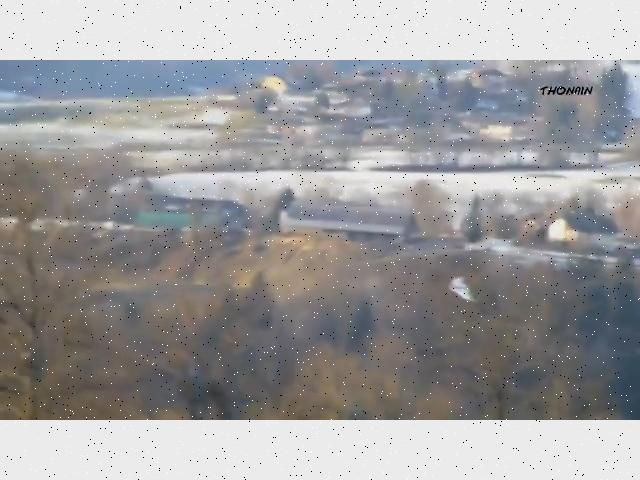Anti-Drone: (450, 276, 476, 302)
